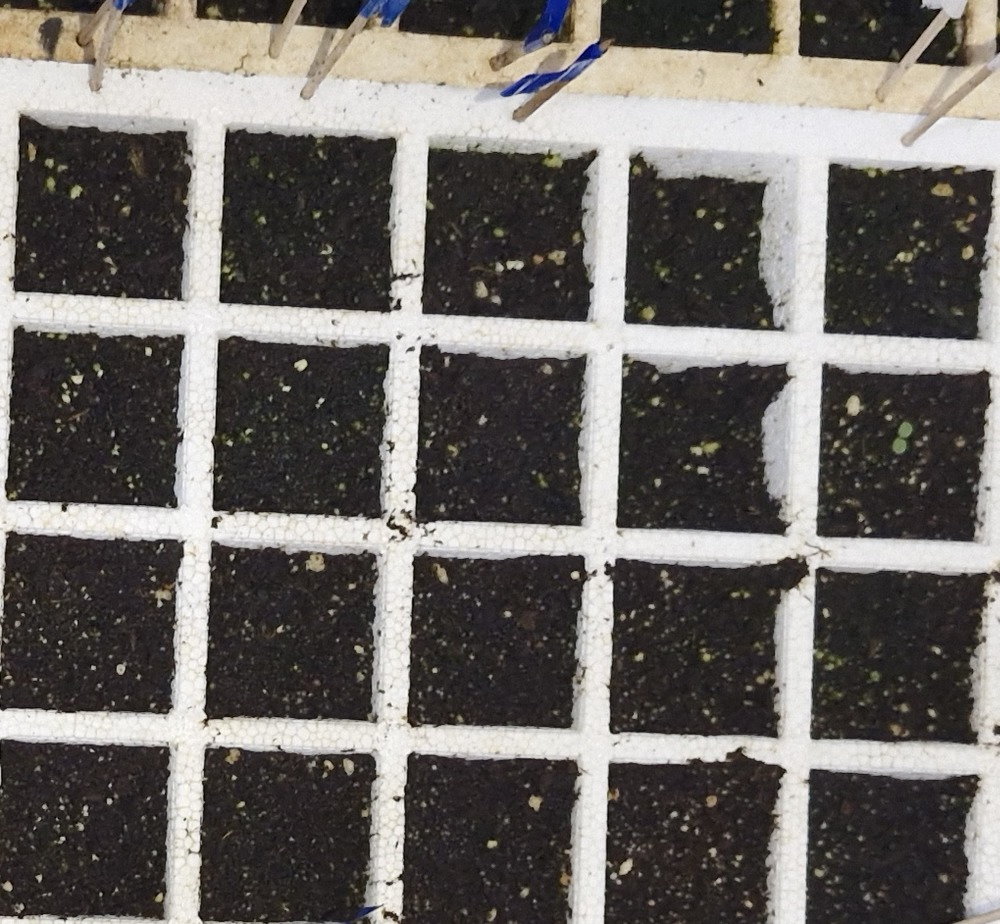Folha: (899, 422, 913, 438), (894, 439, 906, 454)
Germinacao: (892, 422, 912, 454)
